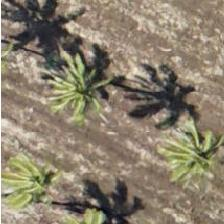Kelapa_Sawit: (58, 45, 148, 135), (148, 104, 224, 194), (0, 140, 71, 224)
